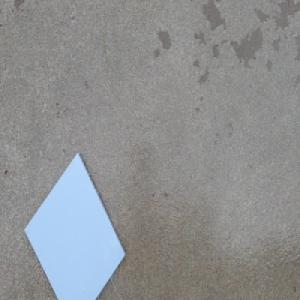PaintChip: (23, 152, 125, 300)
